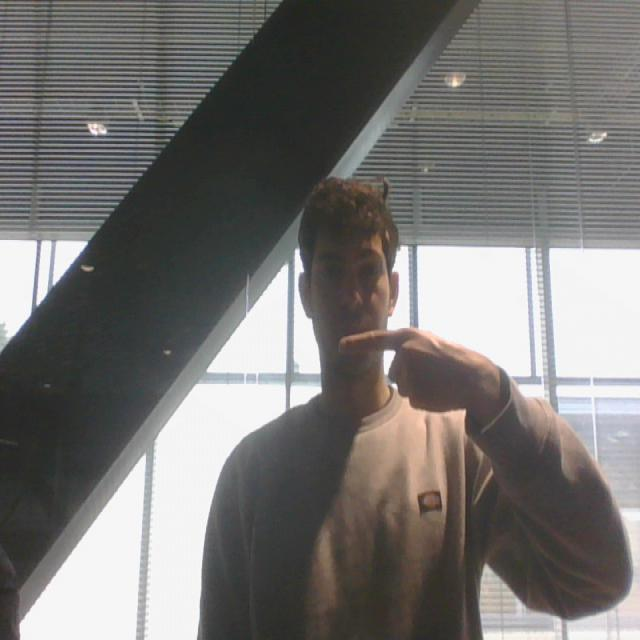left: (336, 324, 500, 428)
